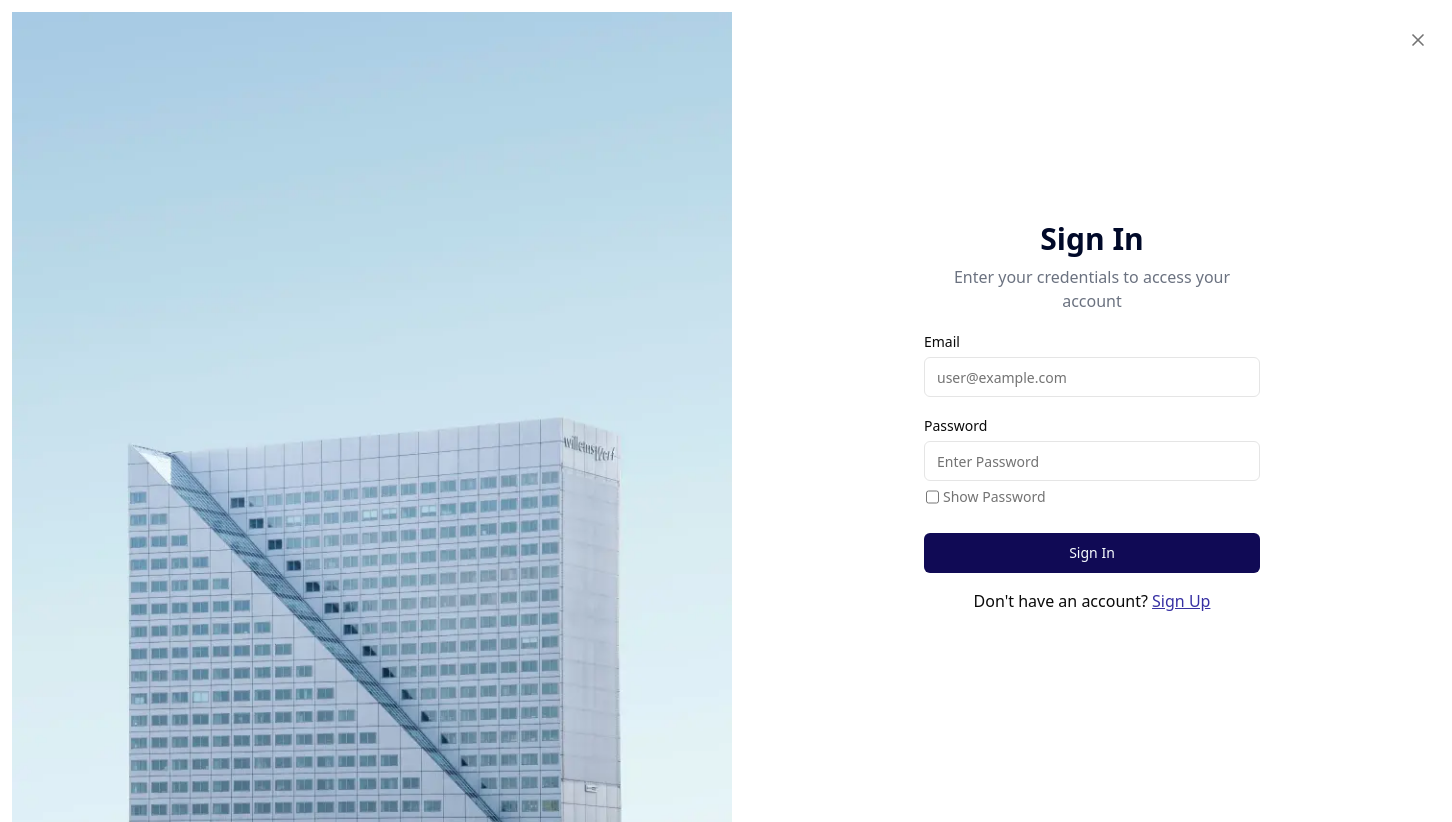
Test: SignIn Component › Displays error message when input fields are empty
Click the button "Sign In" at [1092, 553], box [924,533,1260,573]
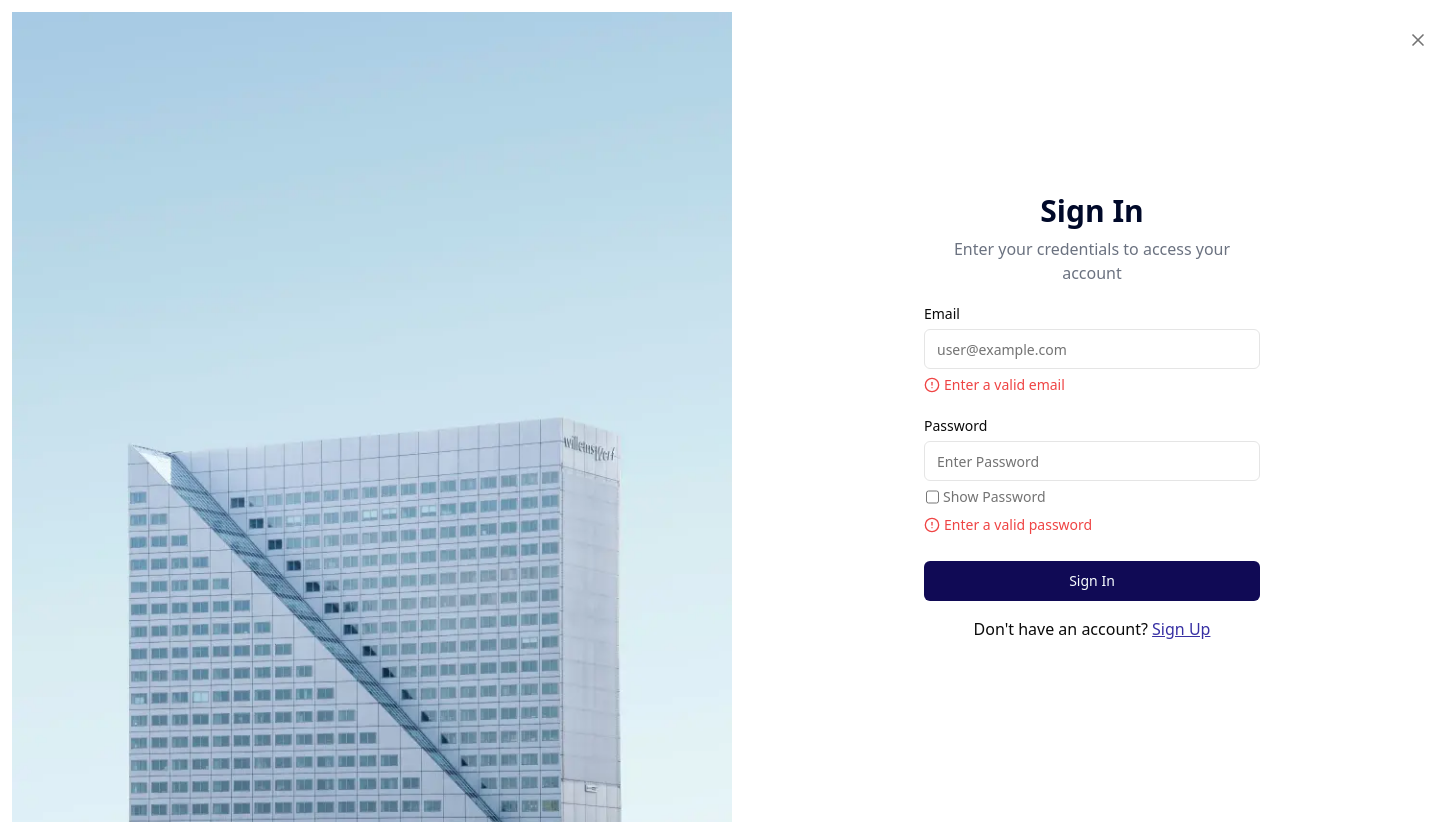
Result: the text "Enter a valid email" is shown at [924,375,1065,394]
Result: the text "Enter a valid password" is shown at [924,515,1092,534]
